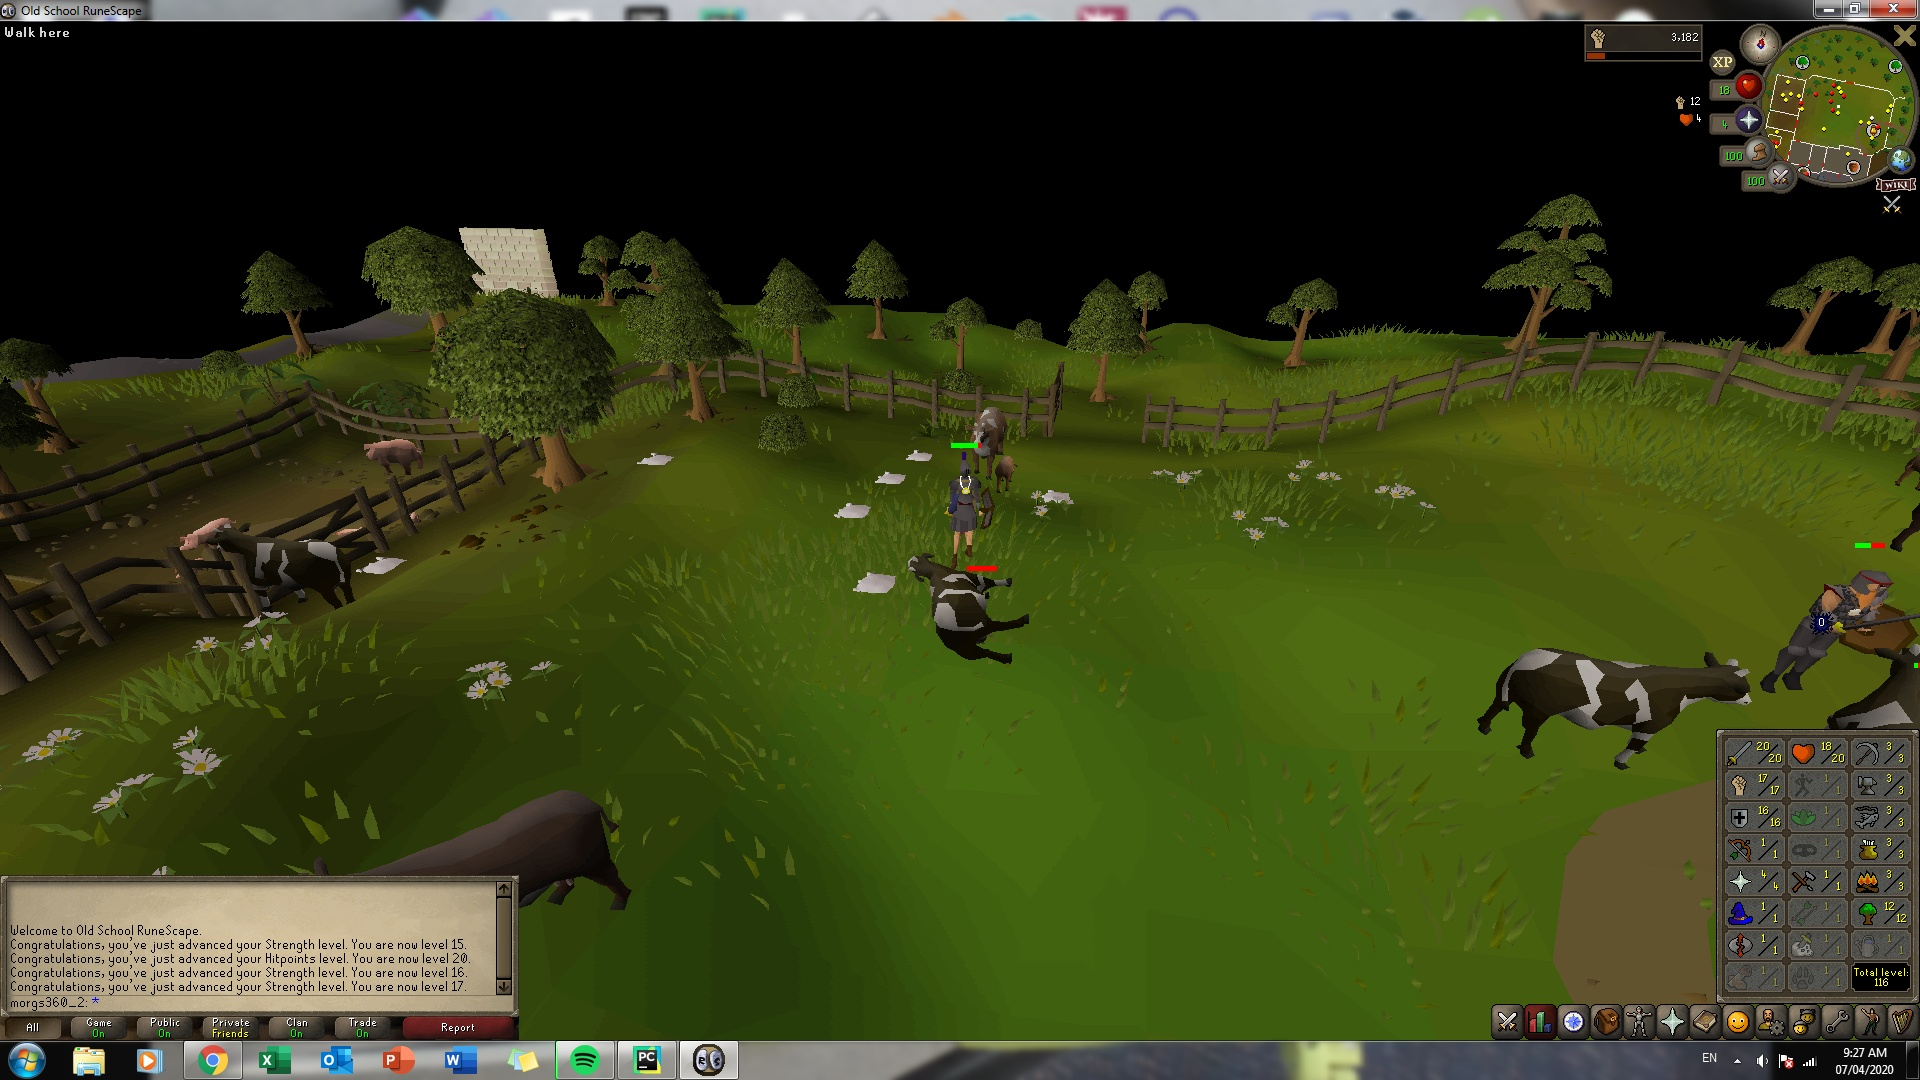cow: (1482, 629, 1717, 771), (369, 787, 620, 870), (899, 547, 1029, 670), (209, 522, 358, 612), (1827, 642, 1916, 728), (968, 409, 1003, 477), (992, 453, 1019, 497)
player: (948, 451, 985, 567)
